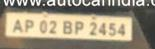0: (37, 18, 47, 33)
2: (87, 20, 97, 35), (48, 18, 57, 33)
4: (116, 20, 125, 36), (98, 21, 106, 35)
5: (107, 21, 115, 35)
A: (12, 17, 22, 32)
B: (62, 19, 72, 33)
P: (73, 19, 83, 34), (24, 18, 33, 33)
